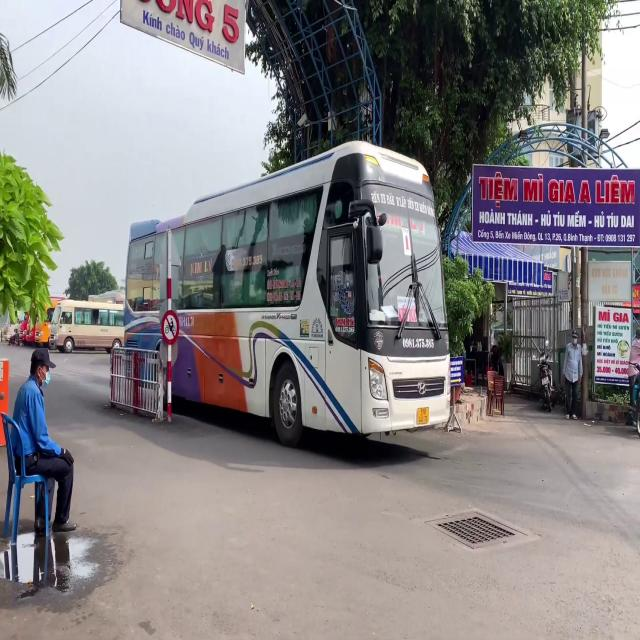bien_vang: (416, 404, 430, 427)
